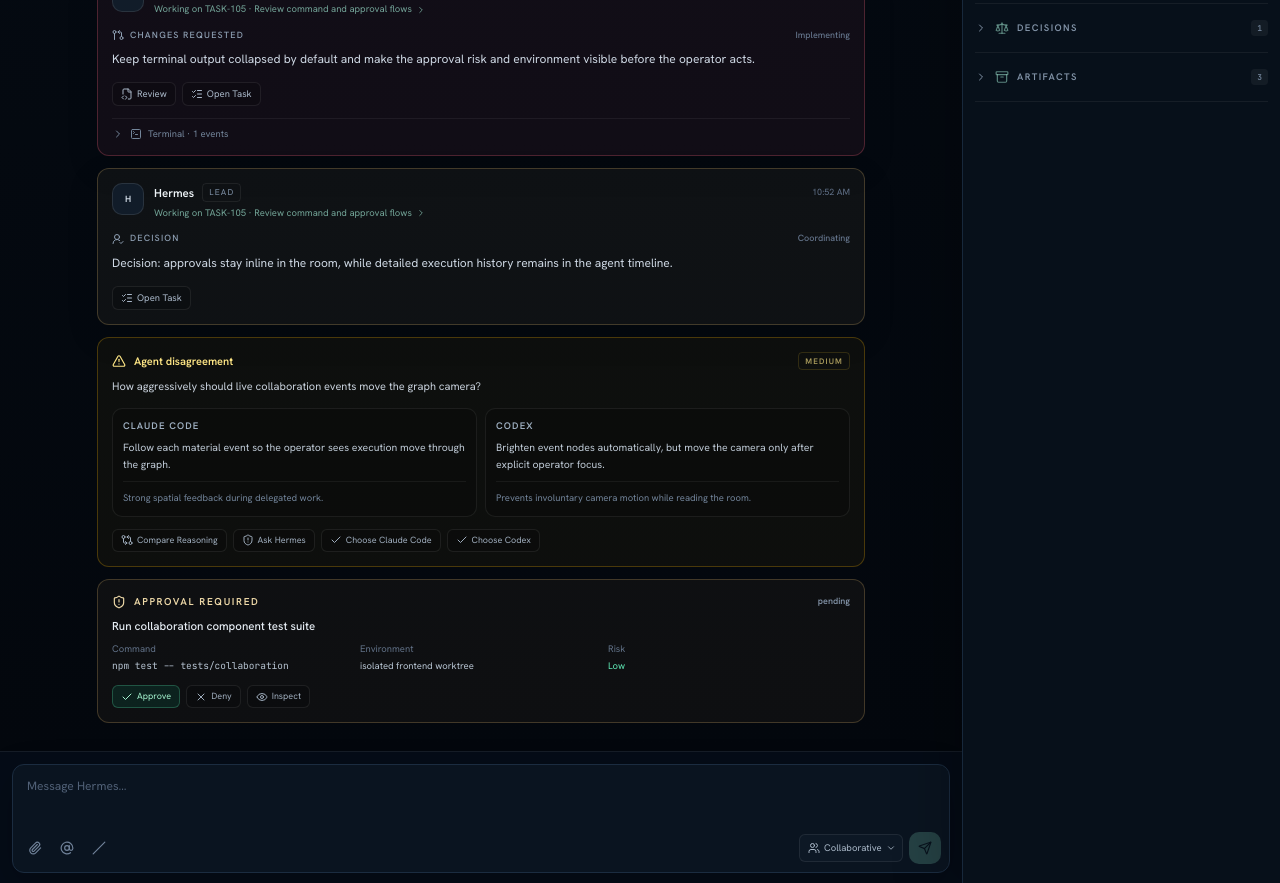
Test: CollaborationComposer — Lisa-first defaults › shows a DIRECT WORKER MODE indicator and updates the placeholder once Solo mode is selected
The width and height of the screenshot is (1280, 883).
(page scrolled)
Select "Solo" in the dropdown named "Collaboration mode". click: (859, 848)
box: [824,841,894,856]
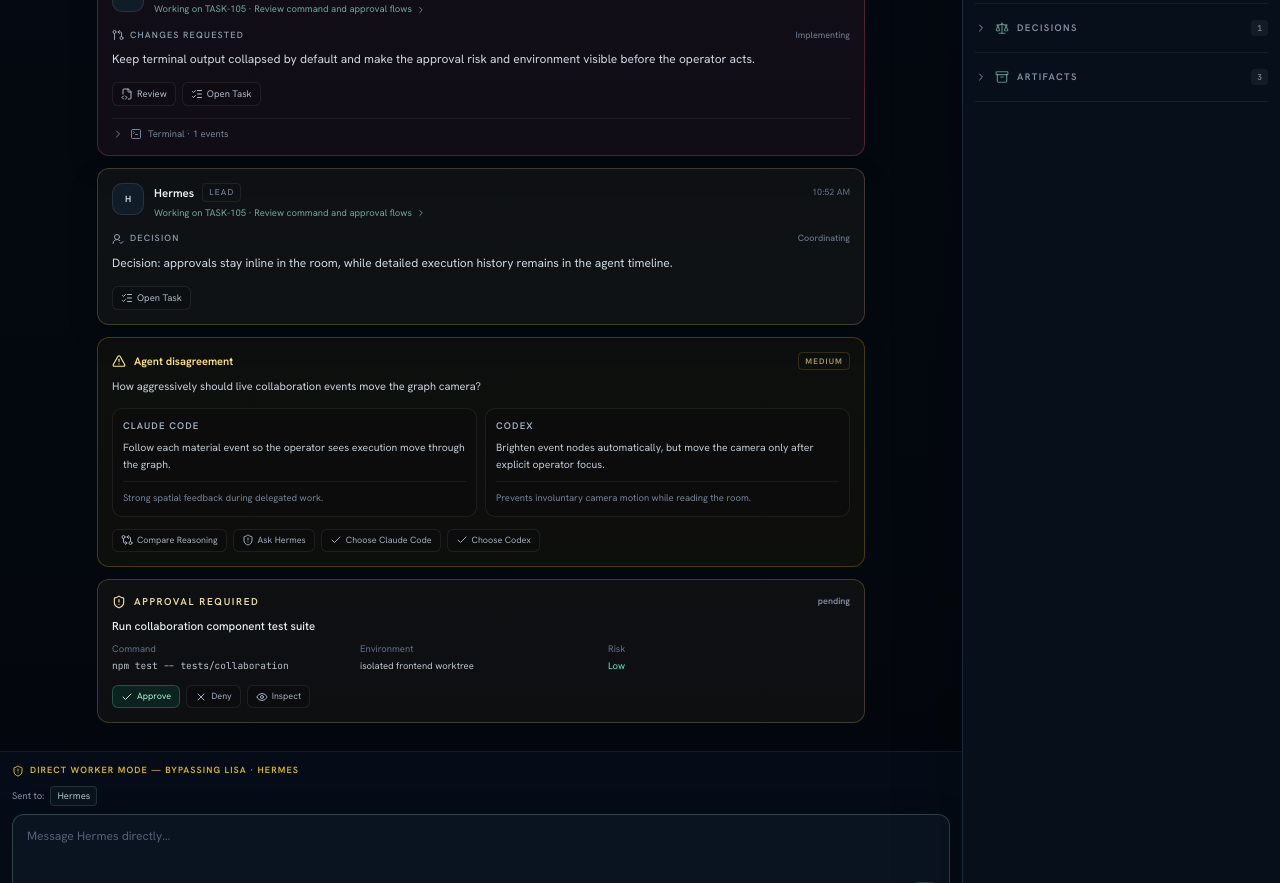
Now the message shows "Direct worker mode", box [30,764,258,776]
Now the message shows "Hermes", box [258,764,299,776]
